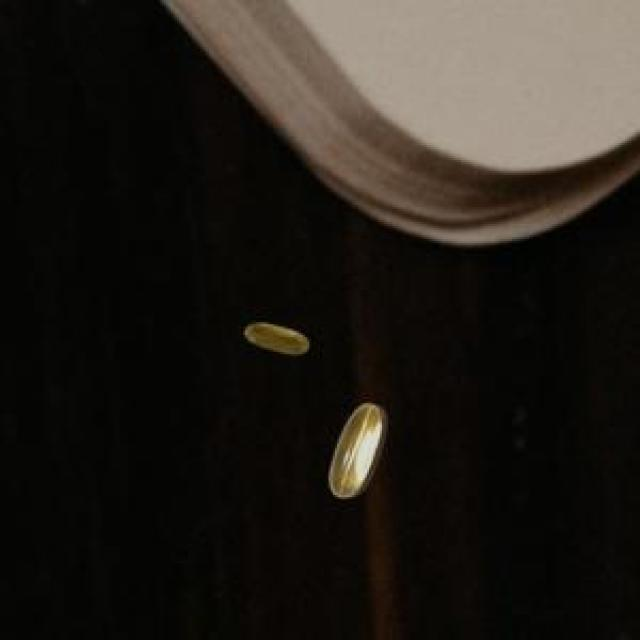Fish_Oil: (311, 388, 412, 513), (234, 299, 321, 365)
